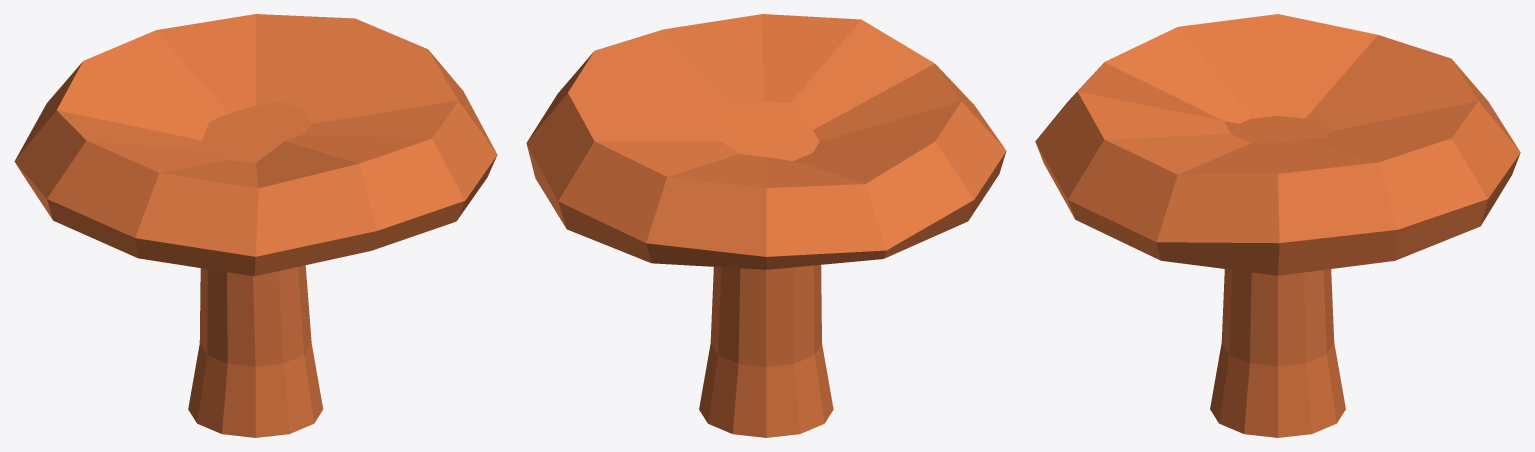
File: Lactarius_big.fbx
3 views of the same model, side by side, from view 1: azimuth 30°, elevation 25°; view 2: azimuth 150°, elevation 25°; view 3: azimuth 270°, elevation 25° (orthographic).
Visible parts, largest first — view 1: Cylinder; view 2: Cylinder; view 3: Cylinder.
Boxes of the visible parts, x1=… form: Cylinder: x1=14, y1=14, x2=497, y2=437; Cylinder: x1=526, y1=14, x2=1006, y2=437; Cylinder: x1=1035, y1=14, x2=1520, y2=437.
Bounding box in the file's own units: 97.51 × 71.01 × 97.63.
